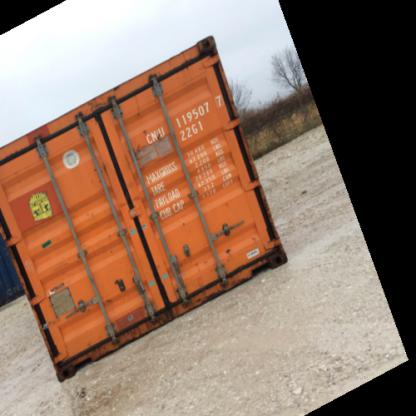Damage: (130, 130, 176, 166), (111, 310, 154, 336), (108, 262, 126, 299), (259, 240, 284, 262), (192, 39, 213, 63), (219, 238, 234, 260), (86, 95, 104, 113)
